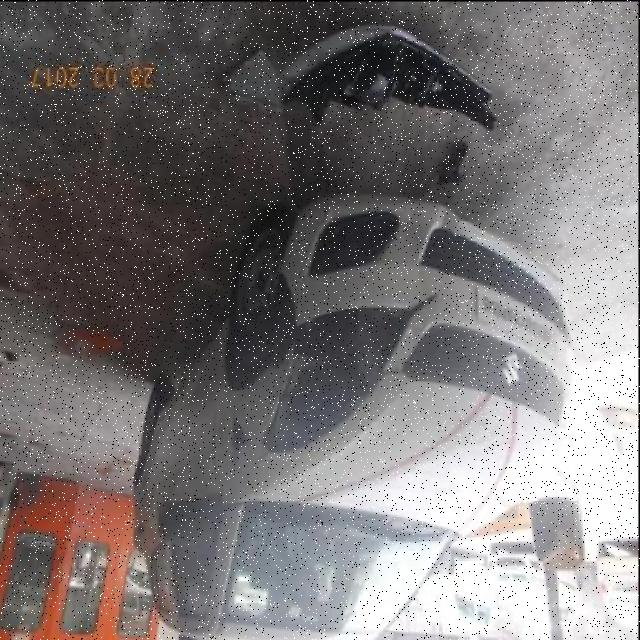damage: (263, 300, 411, 449), (310, 207, 401, 274), (267, 266, 301, 367), (402, 288, 444, 320), (230, 416, 247, 463)
